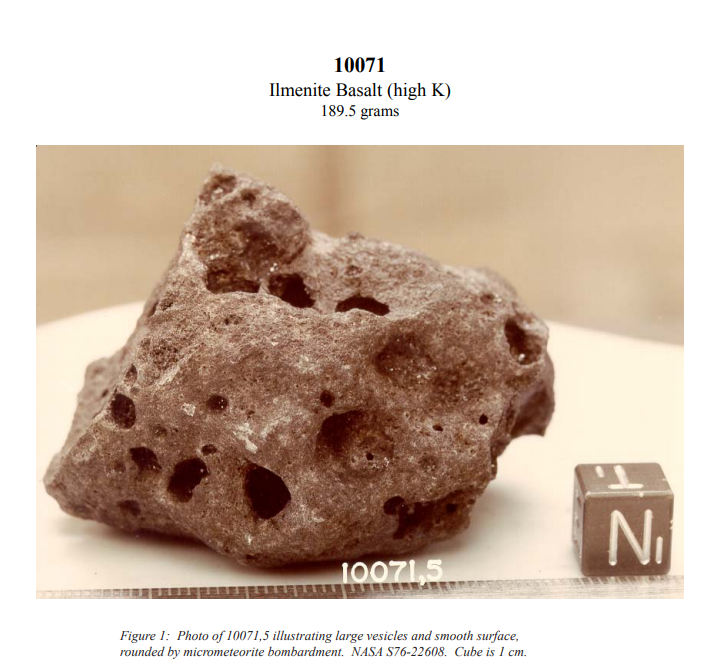Basalt: (55, 178, 537, 551), (95, 369, 469, 535), (196, 224, 445, 344)
